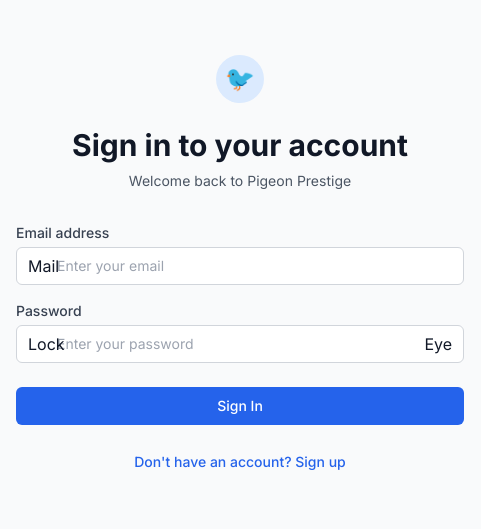
Test: LoginPage › Sign Up Mode › switches to sign up mode when toggle button is clicked
Step 1. Click the button "Don't have an account? Sign up" → point(240, 462), box [134,452,346,472]
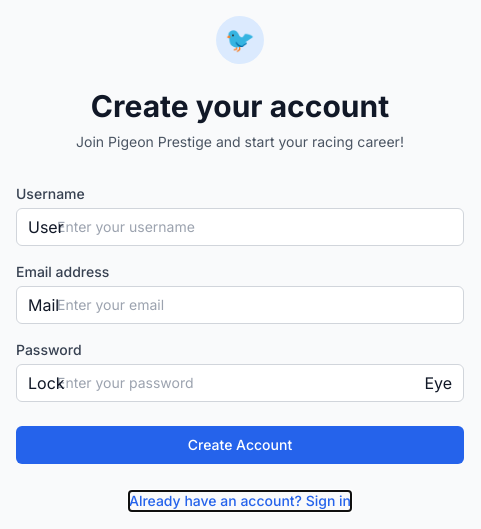
expect the heading "Create your account" is shown: met, box [91,88,389,124]
expect the field labelled "Username" is shown: met, box [16,208,464,246]
expect the button "Create Account" is shown: met, box [16,426,464,464]
